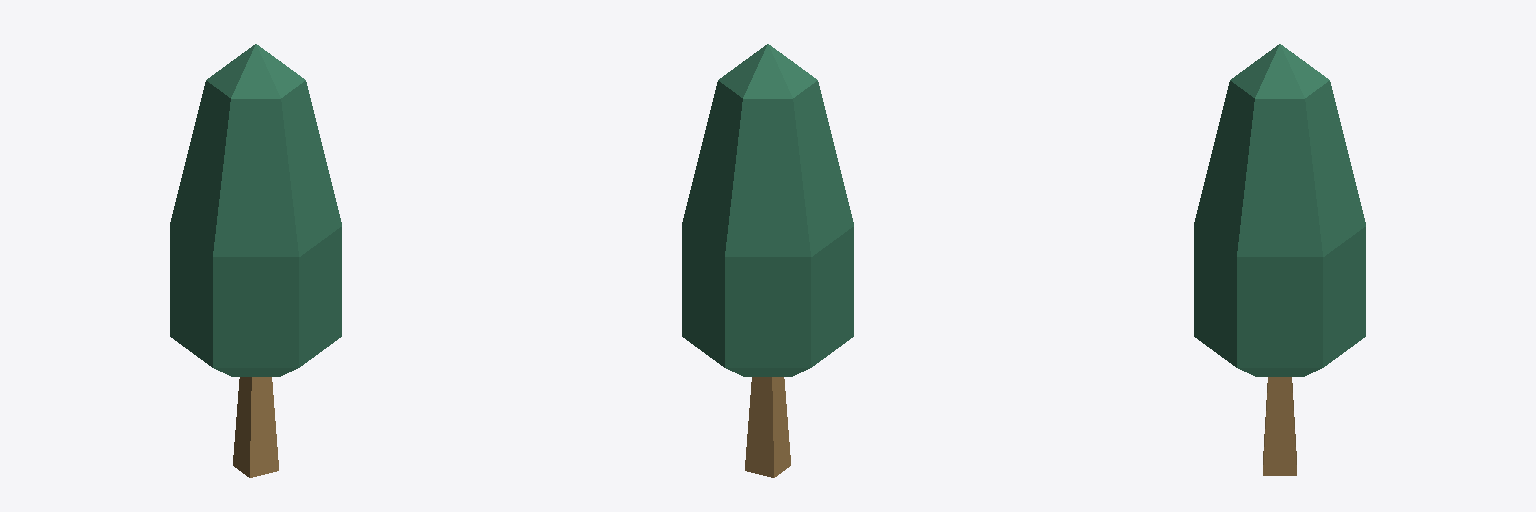
3 renders of one model, left to right at view 1: azimuth 30°, elevation 25°; view 2: azimuth 150°, elevation 25°; view 3: azimuth 270°, elevation 25°, orthographic.
Visible parts, largest first — view 1: Mesh1 Oak_Green Model; view 2: Mesh1 Oak_Green Model; view 3: Mesh1 Oak_Green Model.
Boxes of the visible parts, <box> form: Mesh1 Oak_Green Model: <box>170,44,341,477</box>; Mesh1 Oak_Green Model: <box>682,44,853,477</box>; Mesh1 Oak_Green Model: <box>1194,44,1365,475</box>.
Bounding box in the file's own units: 1.58 × 4.93 × 1.82.
Materials: 1 (1 with a texture image).